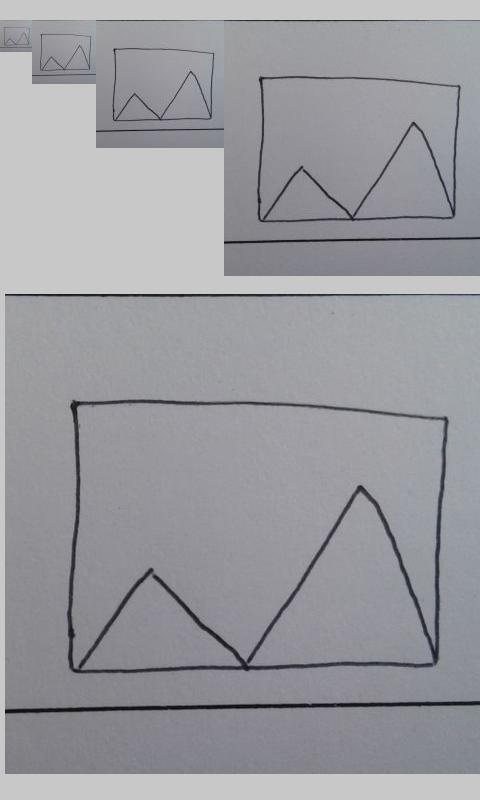image_view: (63, 395, 450, 680), (255, 74, 463, 225), (111, 47, 216, 123), (39, 32, 91, 72), (3, 26, 30, 46)
